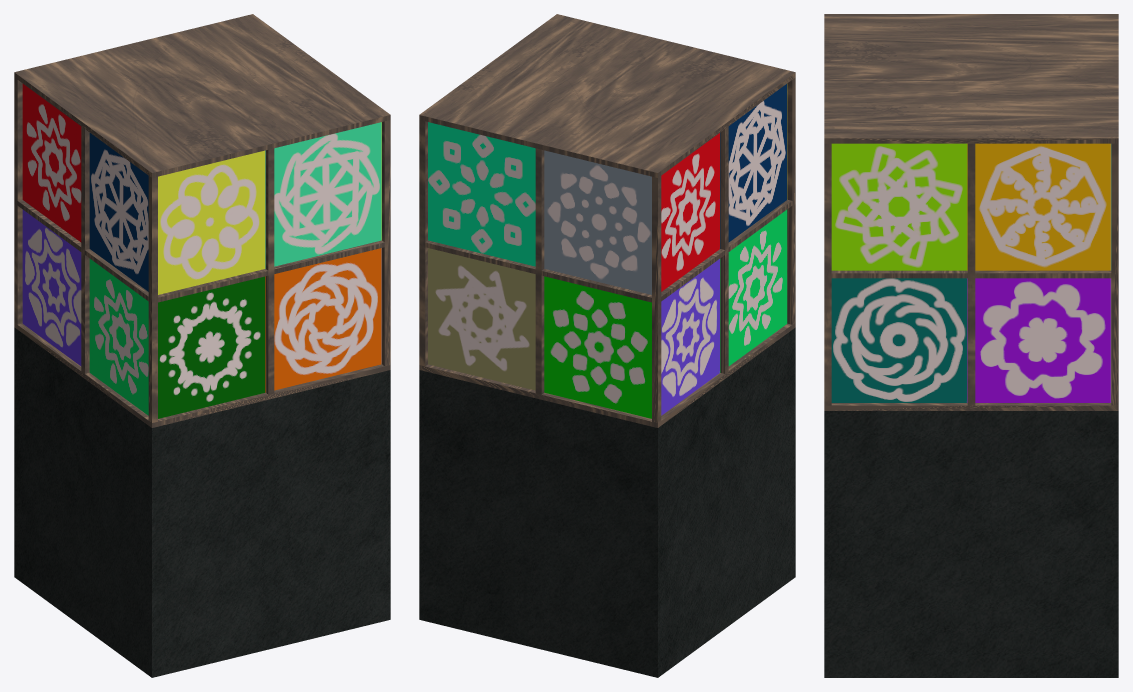
File: PaperLantern-2steps.fbx
The picture shows the model from 3 angles, left to right: view 1: azimuth 30°, elevation 25°; view 2: azimuth 150°, elevation 25°; view 3: azimuth 270°, elevation 25°; orthographic projection. The views are drawn at different scales.
Parts seen in each view (by area): view 1: BoxLight-2steps; view 2: BoxLight-2steps; view 3: BoxLight-2steps.
Part boxes in pixels (bbox=[...]): BoxLight-2steps: bbox=[14, 14, 390, 677]; BoxLight-2steps: bbox=[419, 14, 795, 677]; BoxLight-2steps: bbox=[824, 14, 1118, 677].
Size of the model in its own units: 30 by 30 by 60.63.
